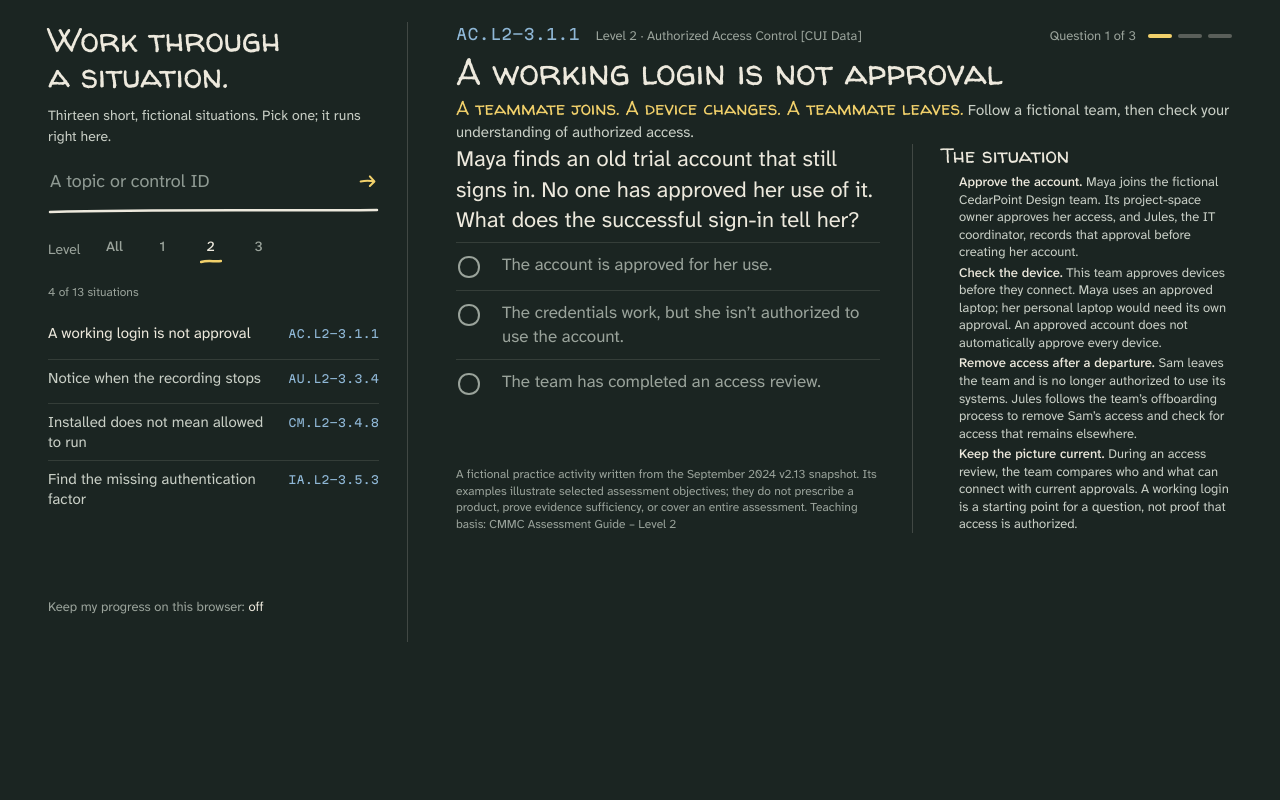
practice runs in place › keeps the first situation at the level in force running while the list is typed into or hidden
Check: the heading "A working login is not approval" is shown, box [456,47,1003,96]
Check: the 1st text "AC.L2-3.1.1" is shown, box [456,22,580,46]
Type "authentication factor" into the search field named "Find a situation". click: (198, 181)
box: [48,159,347,203]
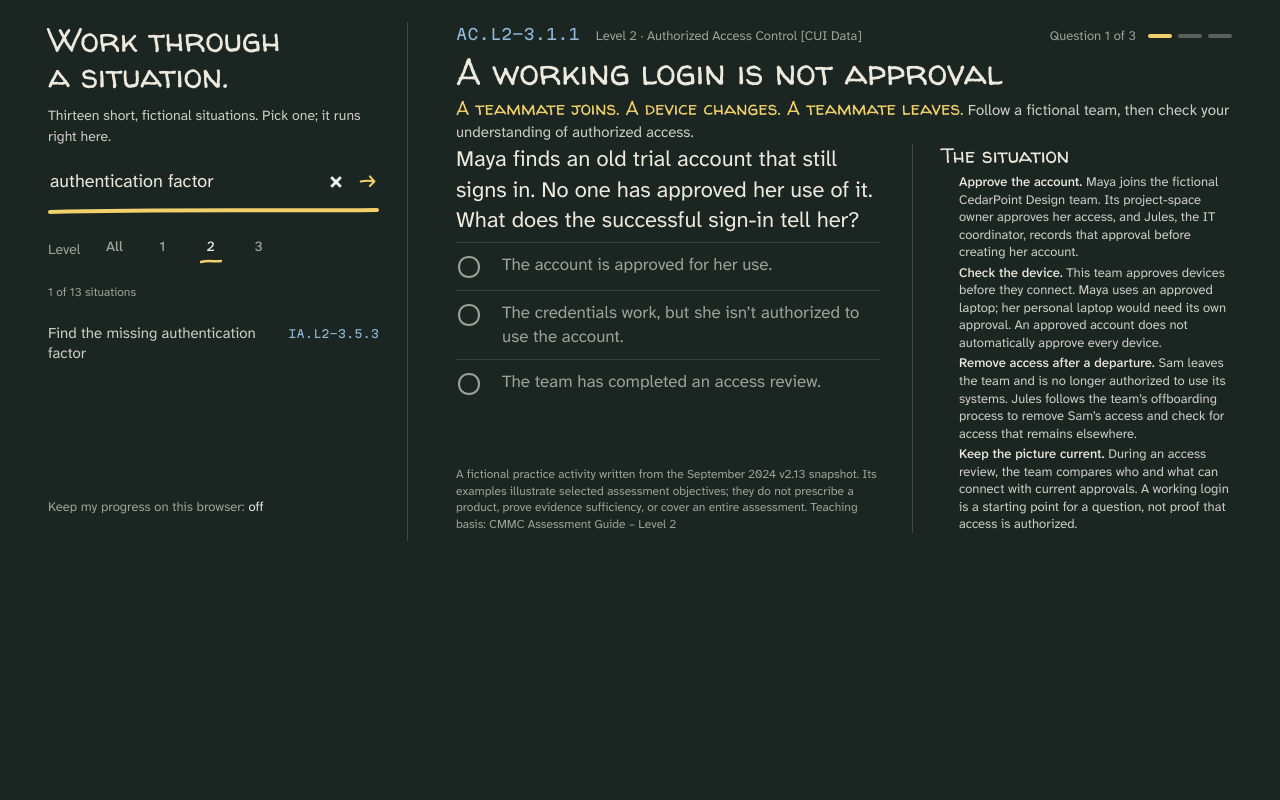
Check: the text "AC.L2-3.1.1" is shown, box [456,22,580,46]
Check: the message named "Situation results" reads "1 of 13 situations", box [48,284,136,300]
Type " nowhere" into the search field named "Find a situation". click: (198, 181)
box: [48,159,347,203]
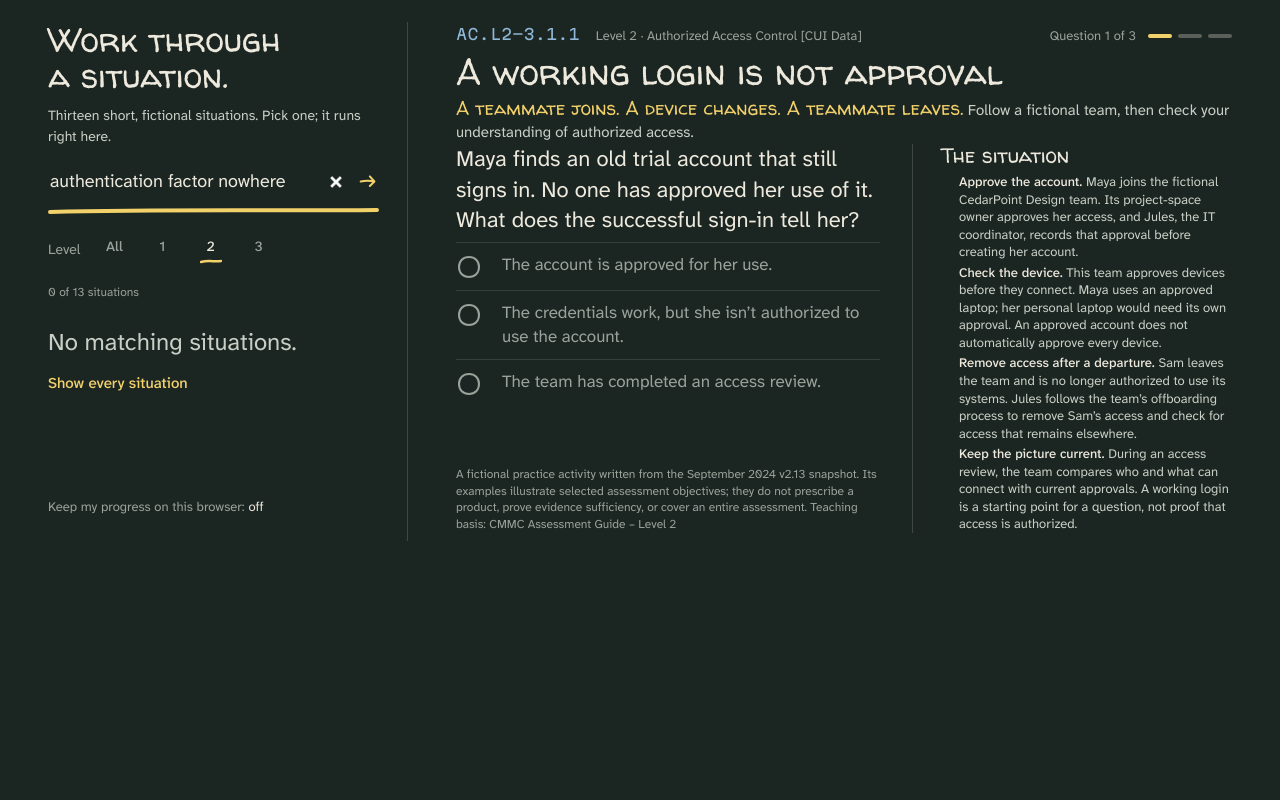
Check: the text "AC.L2-3.1.1" is shown, box [456,22,580,46]
Check: the text "No matching situations." is shown, box [48,326,297,358]
